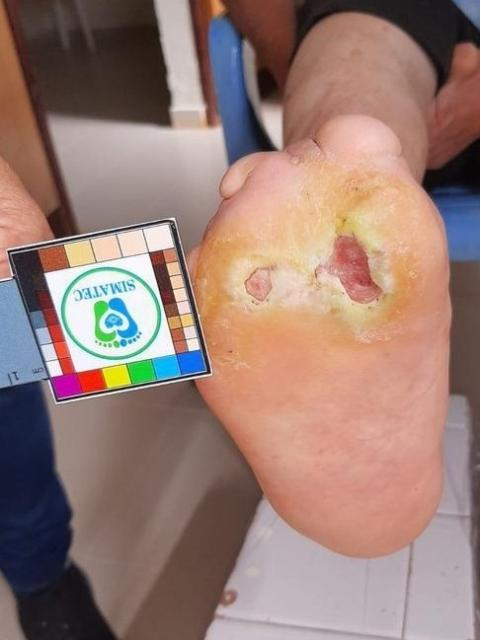wound: (315, 235, 384, 304), (244, 266, 272, 304)
